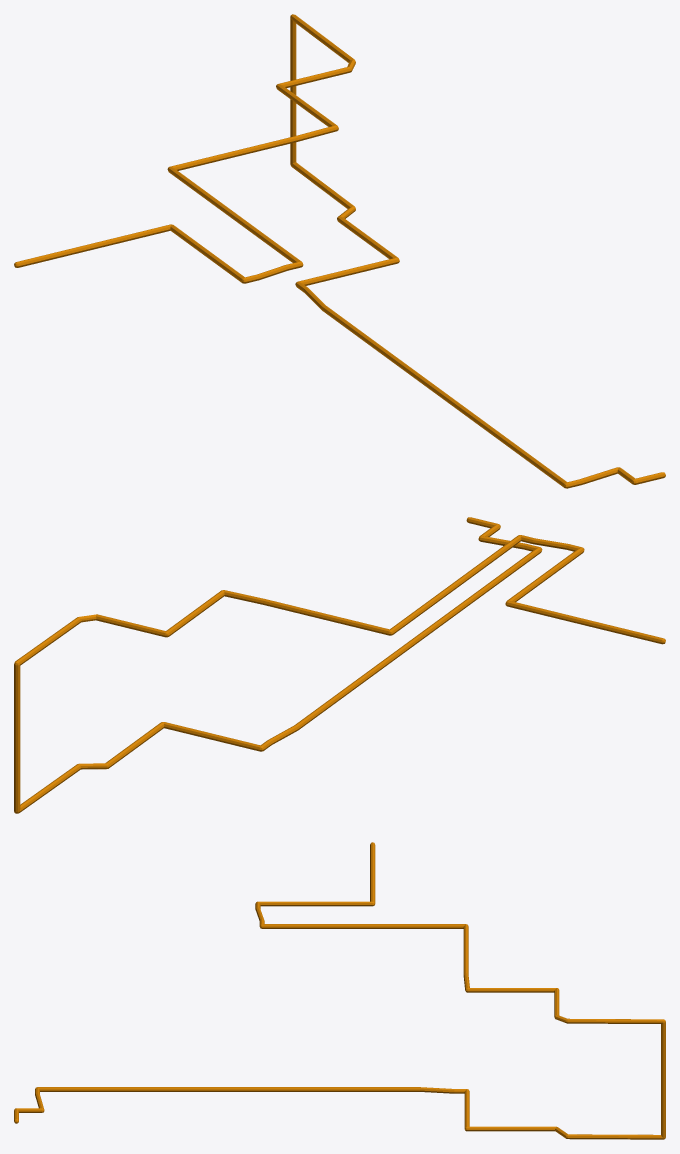
The picture shows the model from 3 angles, top to bottom: view 1: azimuth 30°, elevation 25°; view 2: azimuth 150°, elevation 25°; view 3: azimuth 270°, elevation 25°; orthographic projection. The views are drawn at different scales.
Bounding box in the file's own units: 1663 × 520 × 2557.
